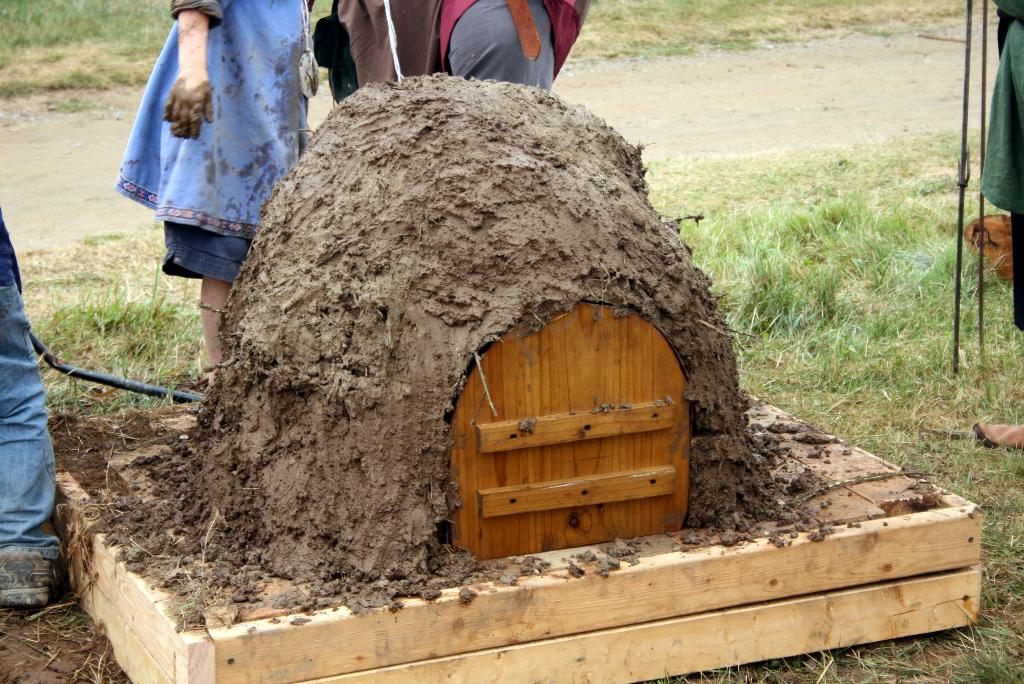person: (116, 0, 584, 379)
